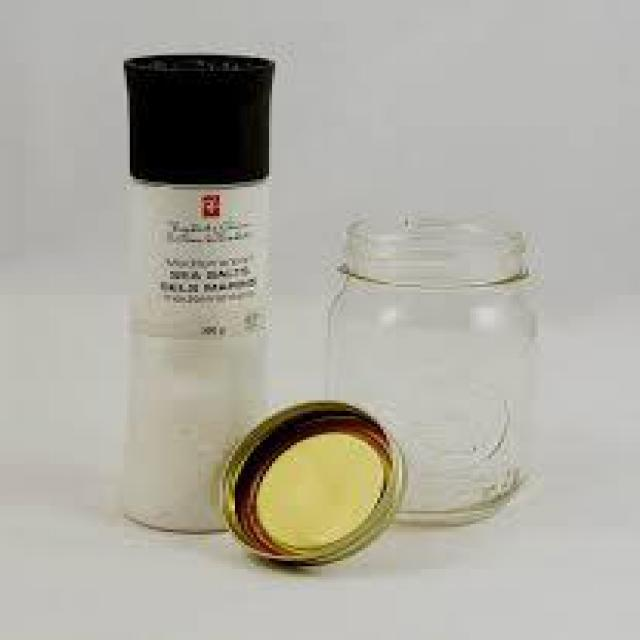non-organic waste: (115, 51, 288, 538), (328, 209, 544, 528)
